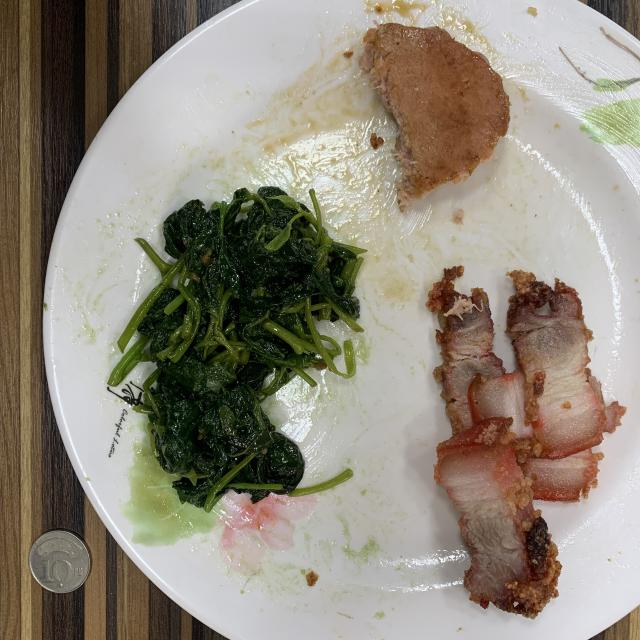Spam: (359, 24, 510, 210)
coin: (29, 530, 90, 594)
red grilled pork: (428, 268, 625, 618)
sweet potato leaves: (108, 188, 361, 510)
